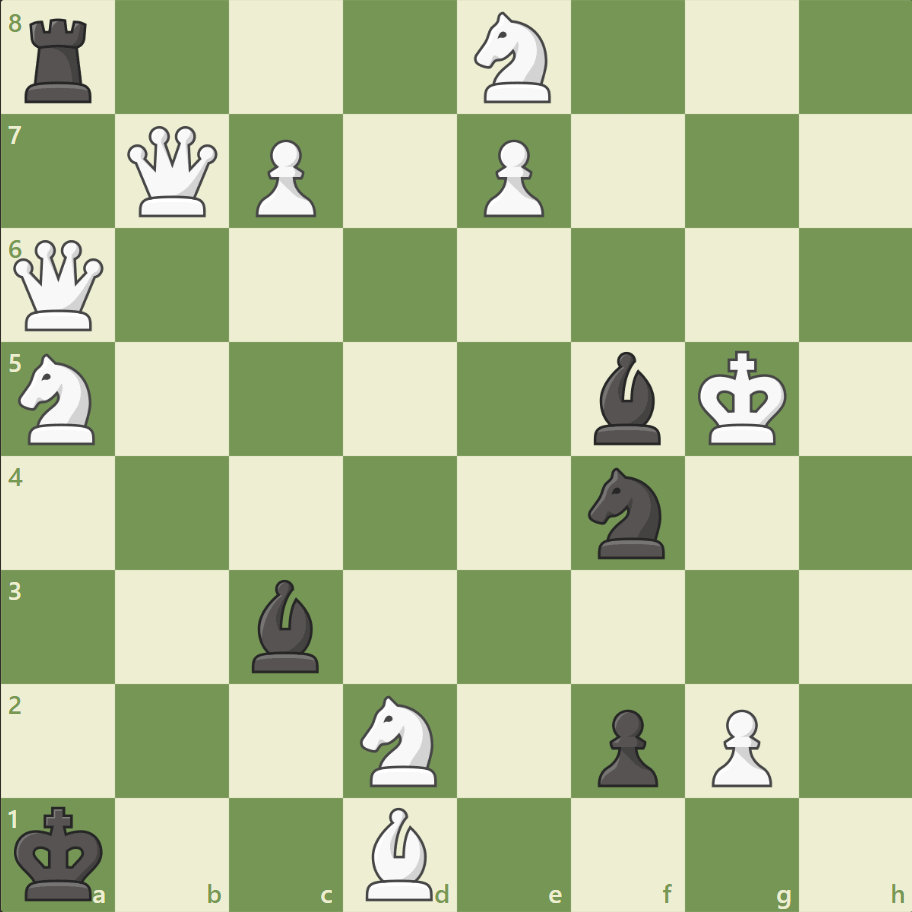B: (358, 801, 442, 904)
K: (692, 344, 792, 452)
N: (351, 688, 449, 791), (465, 7, 562, 110), (11, 348, 108, 450)
P: (247, 132, 322, 223), (474, 132, 549, 223), (701, 700, 776, 791)
Q: (124, 122, 223, 222), (10, 236, 109, 335)
b: (585, 347, 669, 449), (244, 574, 328, 676)
k: (11, 798, 111, 906)
n: (579, 461, 676, 564)
p: (588, 700, 662, 791)
r: (19, 12, 102, 109)
